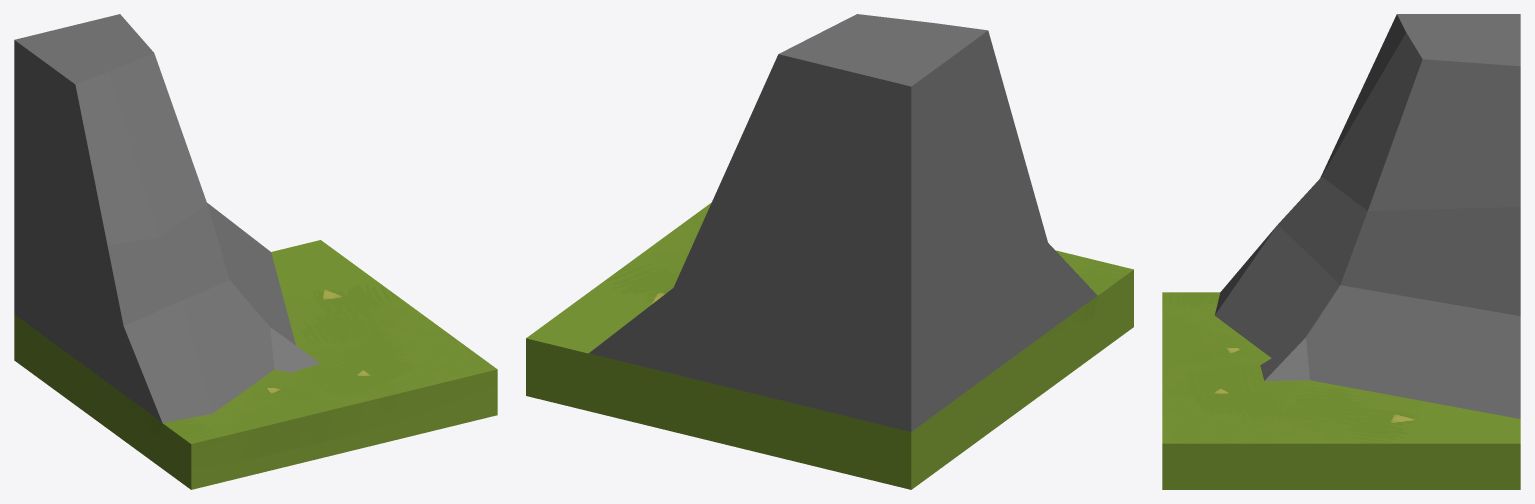
File: mountainCorner.fbx
The picture shows the model from 3 angles, left to right: view 1: azimuth 30°, elevation 25°; view 2: azimuth 150°, elevation 25°; view 3: azimuth 270°, elevation 25°; orthographic projection. The views are drawn at different scales.
Visible parts, largest first — view 1: MountainCorner; view 2: MountainCorner; view 3: MountainCorner.
Boxes of the visible parts, bbox=[...] form: MountainCorner: bbox=[14, 14, 497, 489]; MountainCorner: bbox=[526, 14, 1133, 489]; MountainCorner: bbox=[1162, 14, 1520, 489].
Bounding box in the file's own units: 200 × 200 × 200.
1 material, 1 textured.
